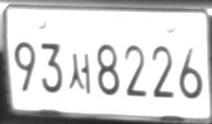2: (151, 45, 174, 98), (124, 44, 146, 96)
3: (40, 43, 63, 93)
6: (178, 47, 203, 99)
8: (96, 44, 120, 96)
9: (13, 41, 36, 91)
서: (68, 53, 90, 94)
